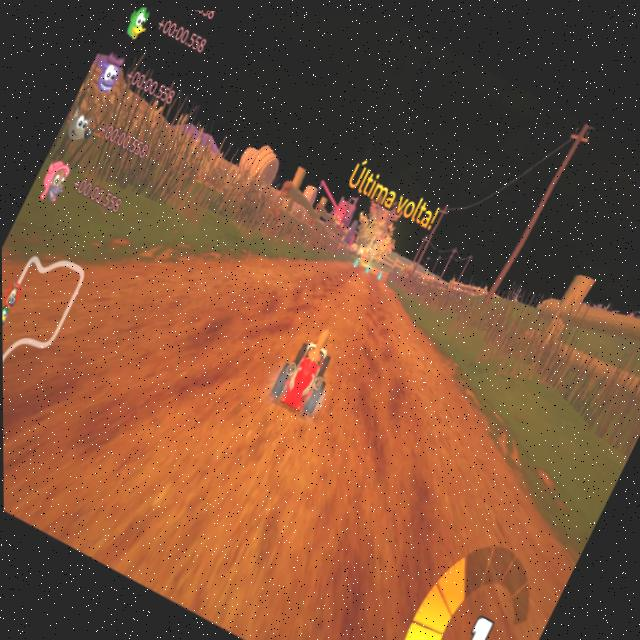bonus: (349, 251, 361, 265), (360, 257, 372, 271), (374, 262, 385, 276)
off_track: (404, 218, 640, 459), (129, 121, 317, 264)
player_kart: (262, 313, 347, 416)
track: (300, 255, 401, 338)
